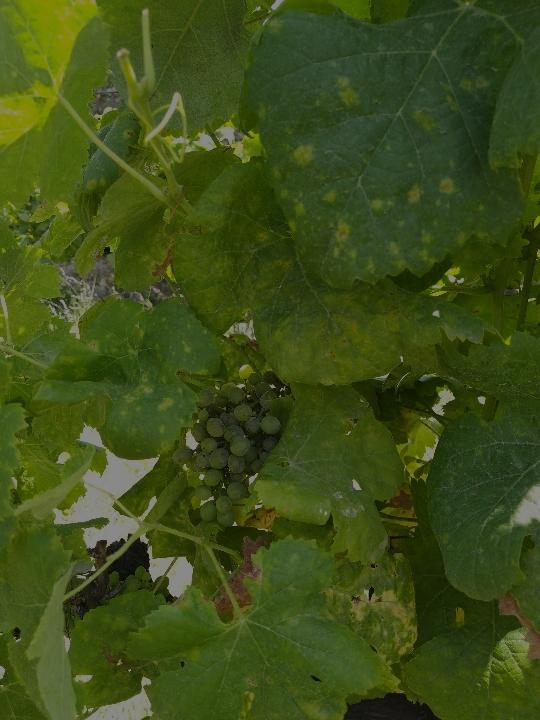grape: (170, 362, 284, 531)
